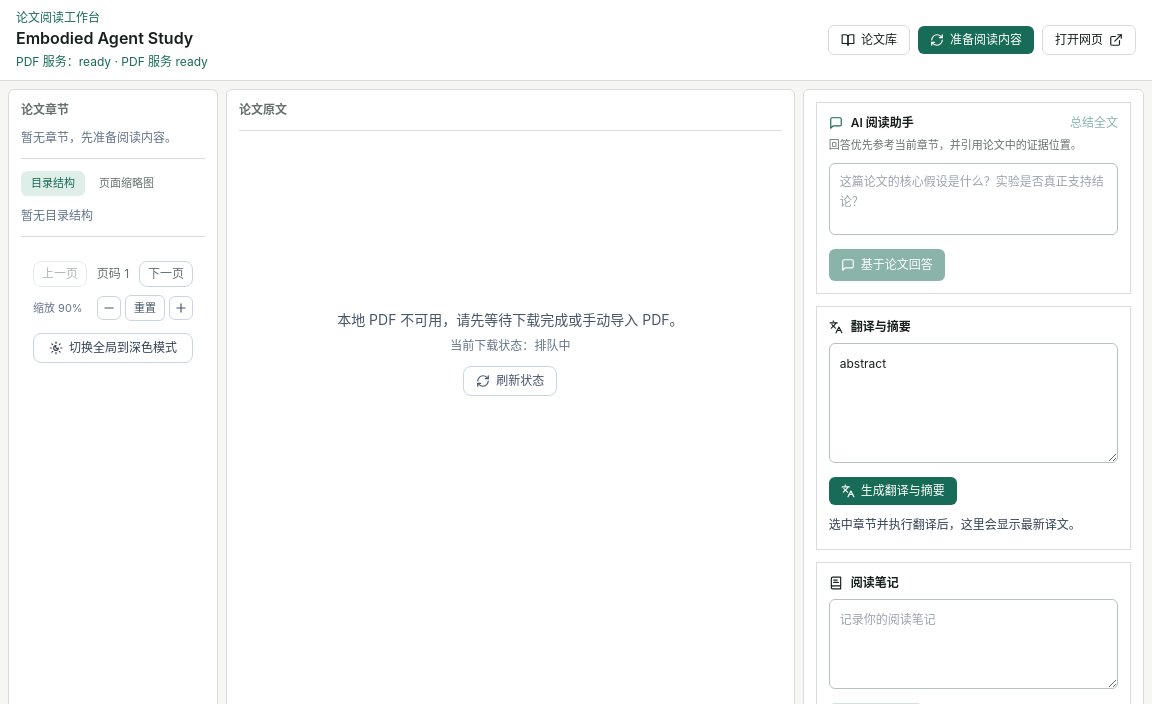
it: DeepReadPanel › redacts sensitive values in local translation errors
Expected: the text box showing "abstract" is shown, left=829, top=343, right=1118, bottom=463
Step 1. Click the button "生成翻译与摘要" → (893, 491), box left=829, top=477, right=957, bottom=505
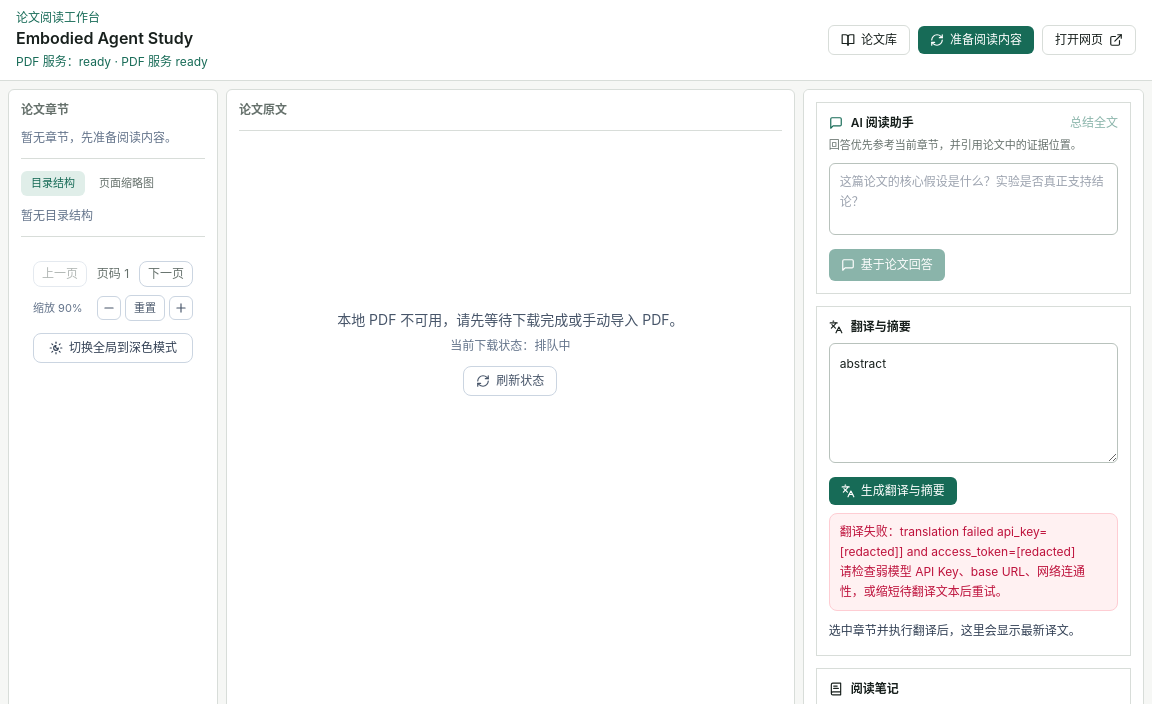
Now the text "api_key=[redacted]" is shown, box left=840, top=524, right=1075, bottom=559
Now the text "access_token=[redacted]" is shown, box left=840, top=524, right=1075, bottom=559
